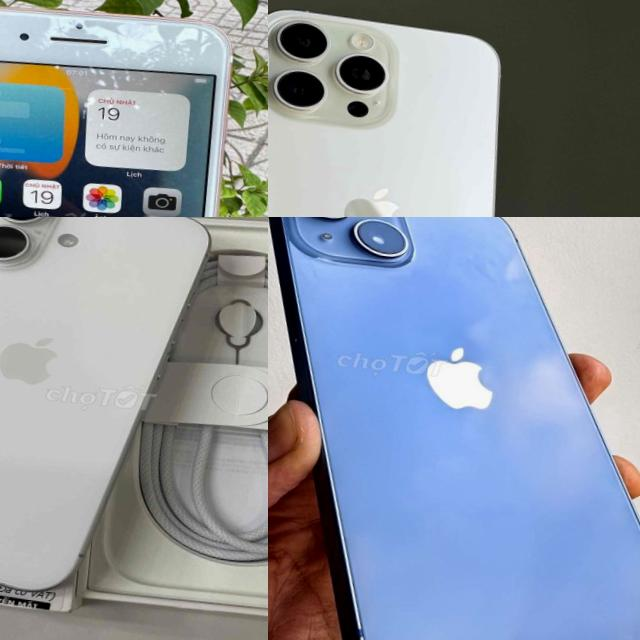gen_14: (268, 217, 640, 640)
gen_15: (268, 0, 545, 217)
gen_17: (0, 217, 220, 617)
gen_7_8: (0, 0, 245, 217)
